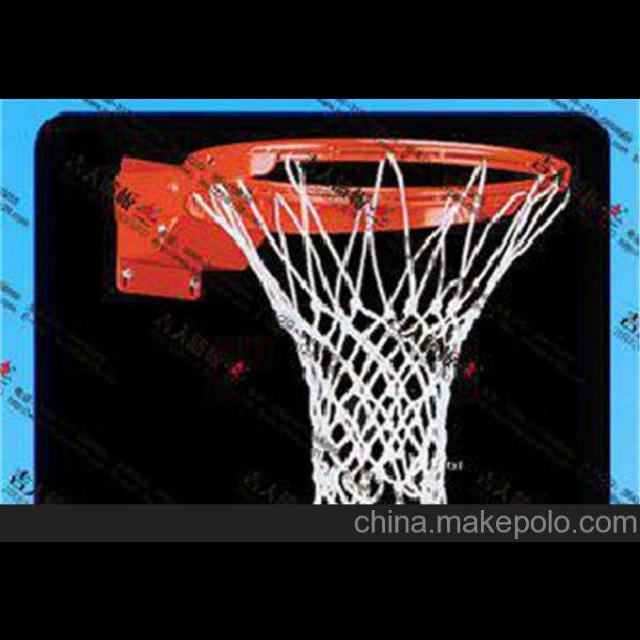rim: (184, 138, 570, 504)
